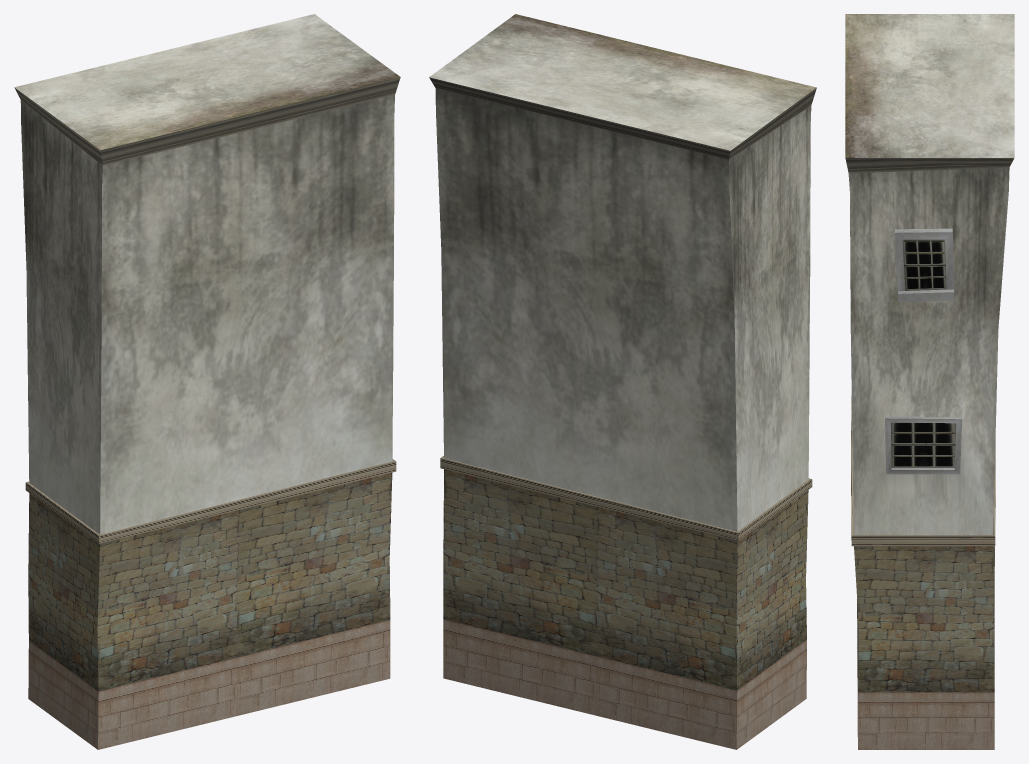
Rendered from english_g.fbx.
3 renders of one model, left to right at view 1: azimuth 30°, elevation 25°; view 2: azimuth 150°, elevation 25°; view 3: azimuth 270°, elevation 25°, orthographic. The views are drawn at different scales.
Parts seen in each view (by area): view 1: facade_d_shell3; view 2: facade_d_shell3; view 3: facade_d_shell3, window_04.
Part boxes in pixels (x1,y1,x2,y2): facade_d_shell3: (14,14,400,749); facade_d_shell3: (429,14,816,749); facade_d_shell3: (845,14,1014,749); window_04: (895,228,954,302).
Size of the model in its own units: 2751 by 5144 by 1328.
1 material, 1 textured.
